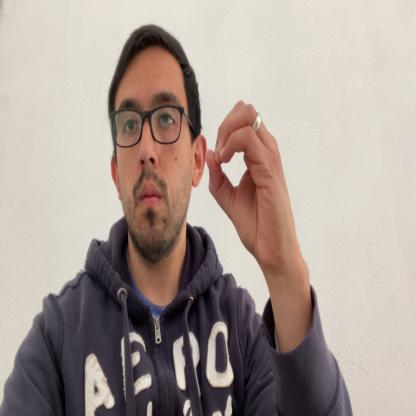O: (207, 99, 292, 276)
